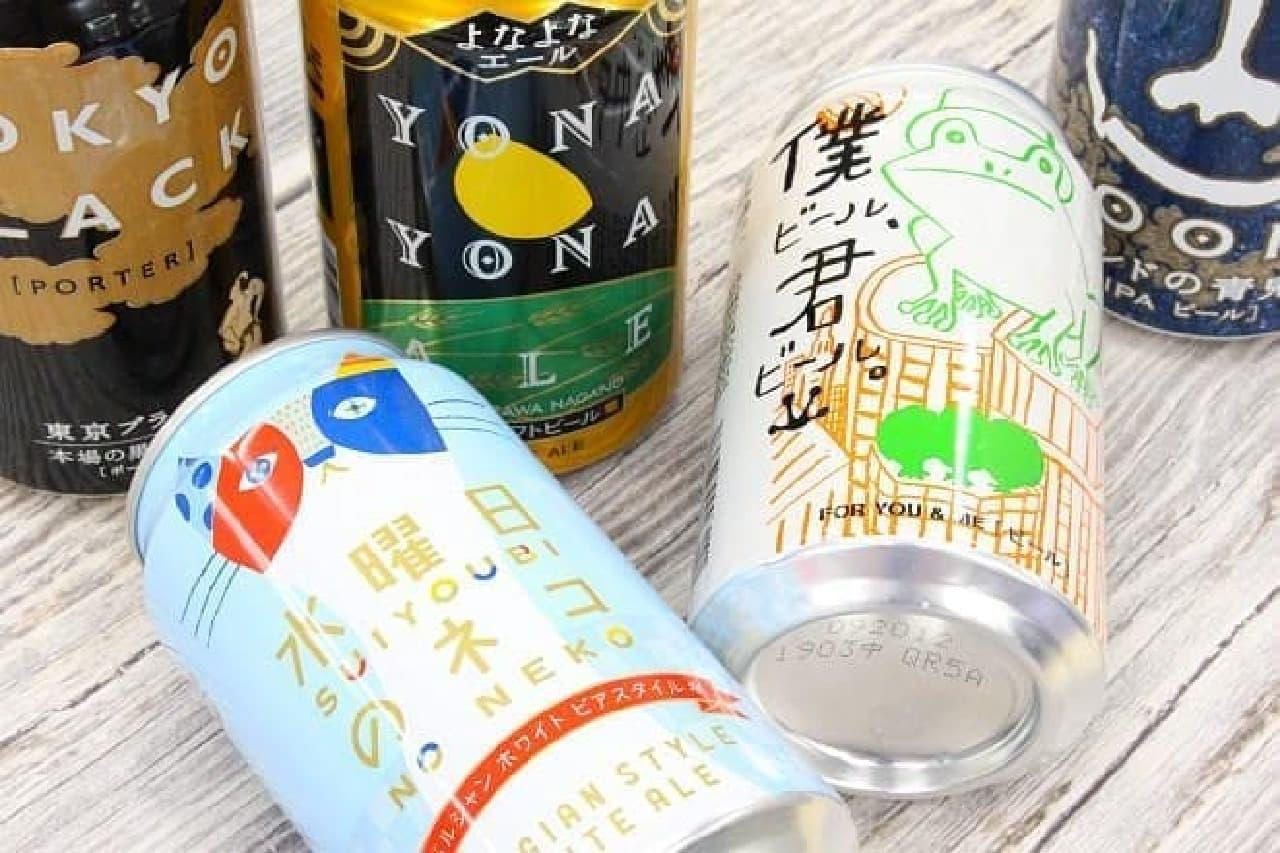metal: (120, 338, 878, 853), (704, 64, 1106, 804), (276, 0, 706, 468), (4, 0, 306, 504), (1036, 0, 1280, 370)
